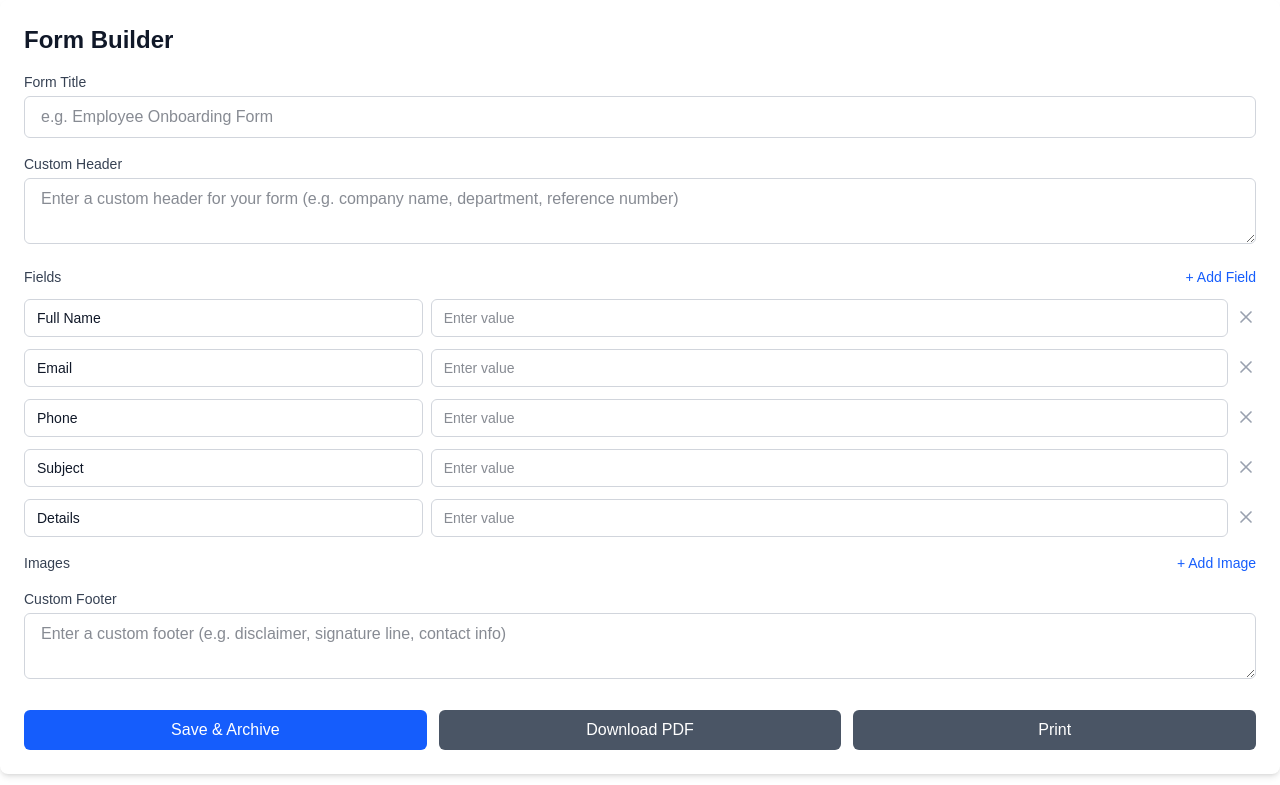
Test: FormBuilder › shows error when localStorage throws
In the field with placeholder "e.g. Employee Onboarding Form": (640, 117) [24,96,1256,138], type "Err Form"
In the 1st field with placeholder "Enter value": (829, 318) [431,299,1228,337], type "data"
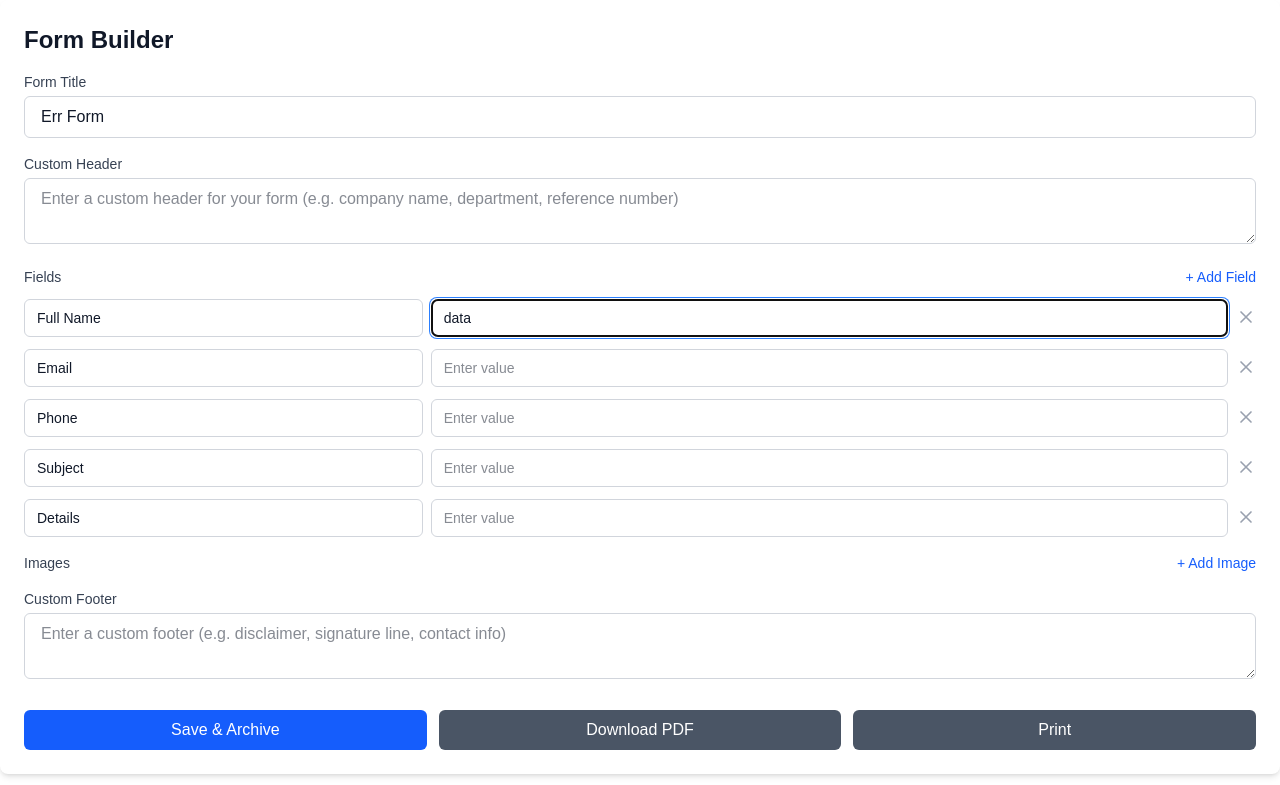
In the 1st field with placeholder "Enter value": (829, 368) [431,349,1228,387], type "data"
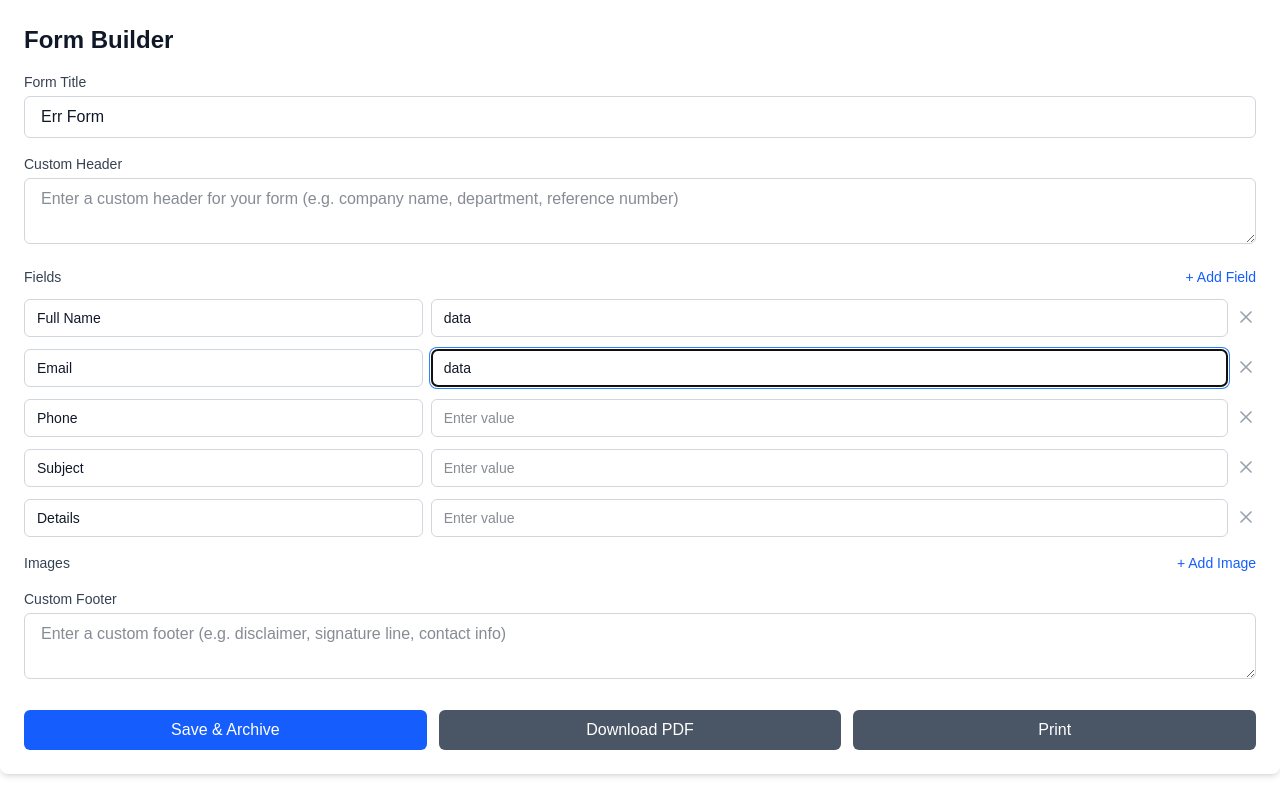
In the 1st field with placeholder "Enter value": (829, 418) [431,399,1228,437], type "data"
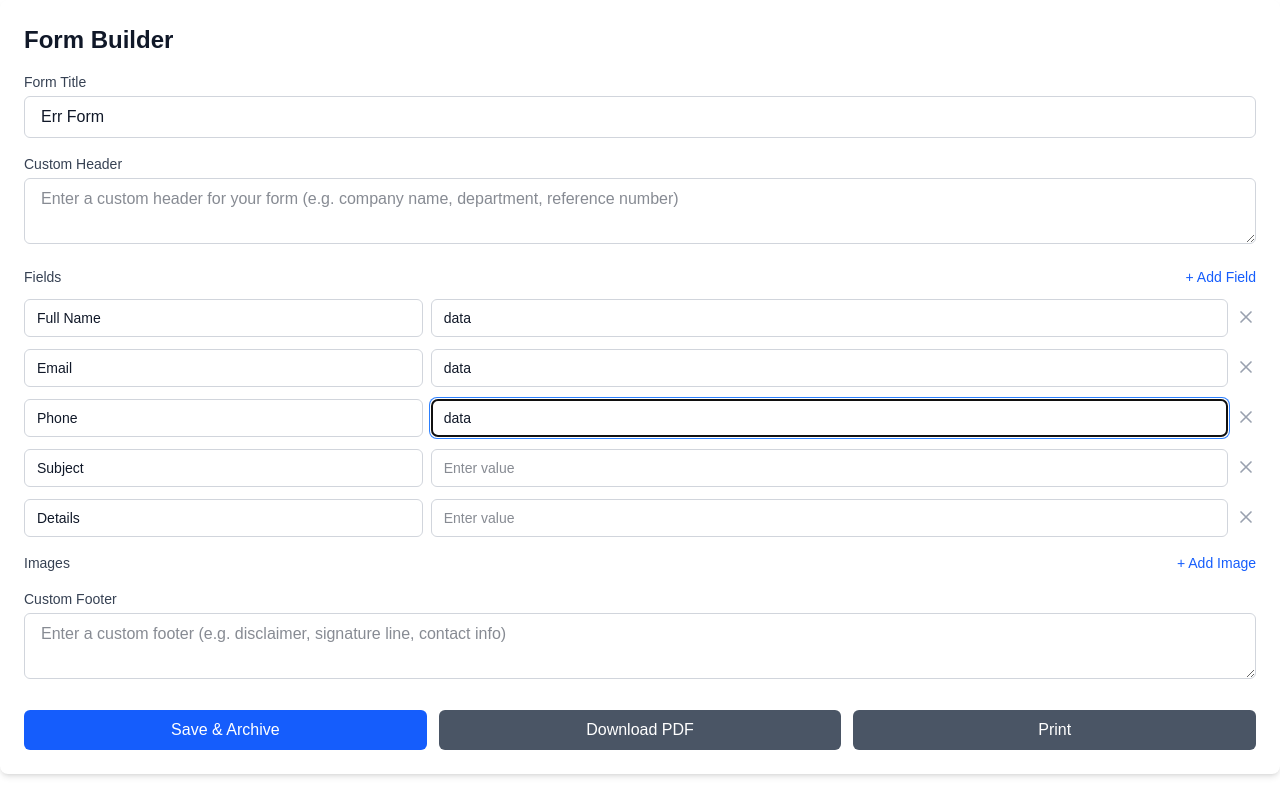
In the 1st field with placeholder "Enter value": (829, 468) [431,449,1228,487], type "data"
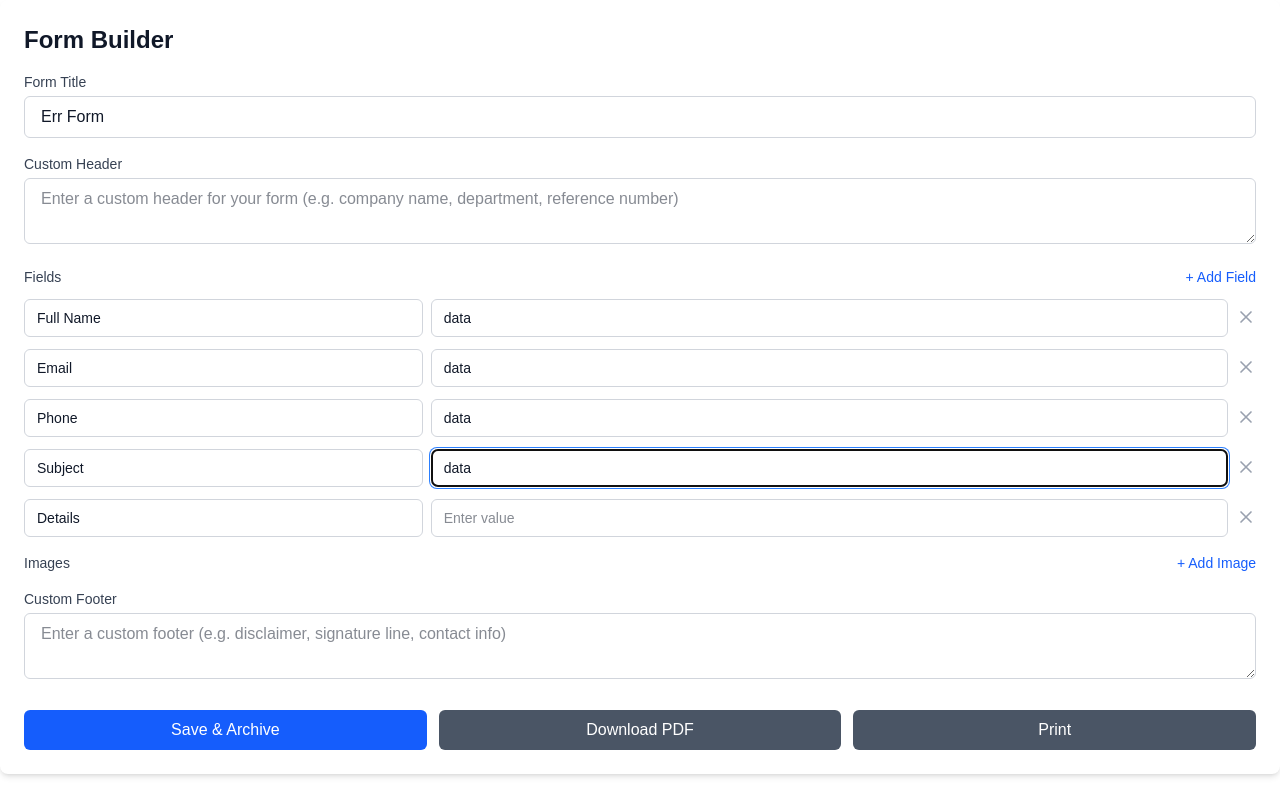
In the field with placeholder "Enter value": (829, 518) [431,499,1228,537], type "data"
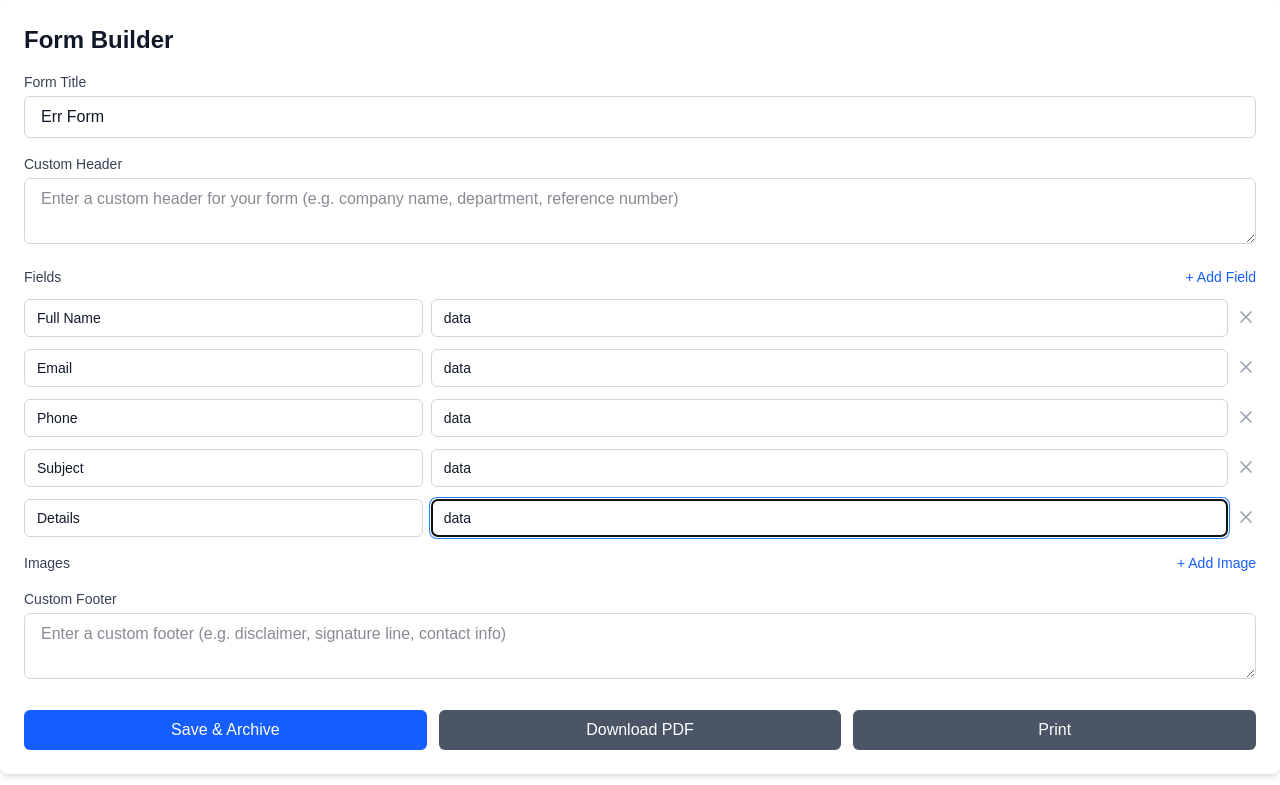
Click the button "Save & Archive": (225, 730) [24,710,427,750]
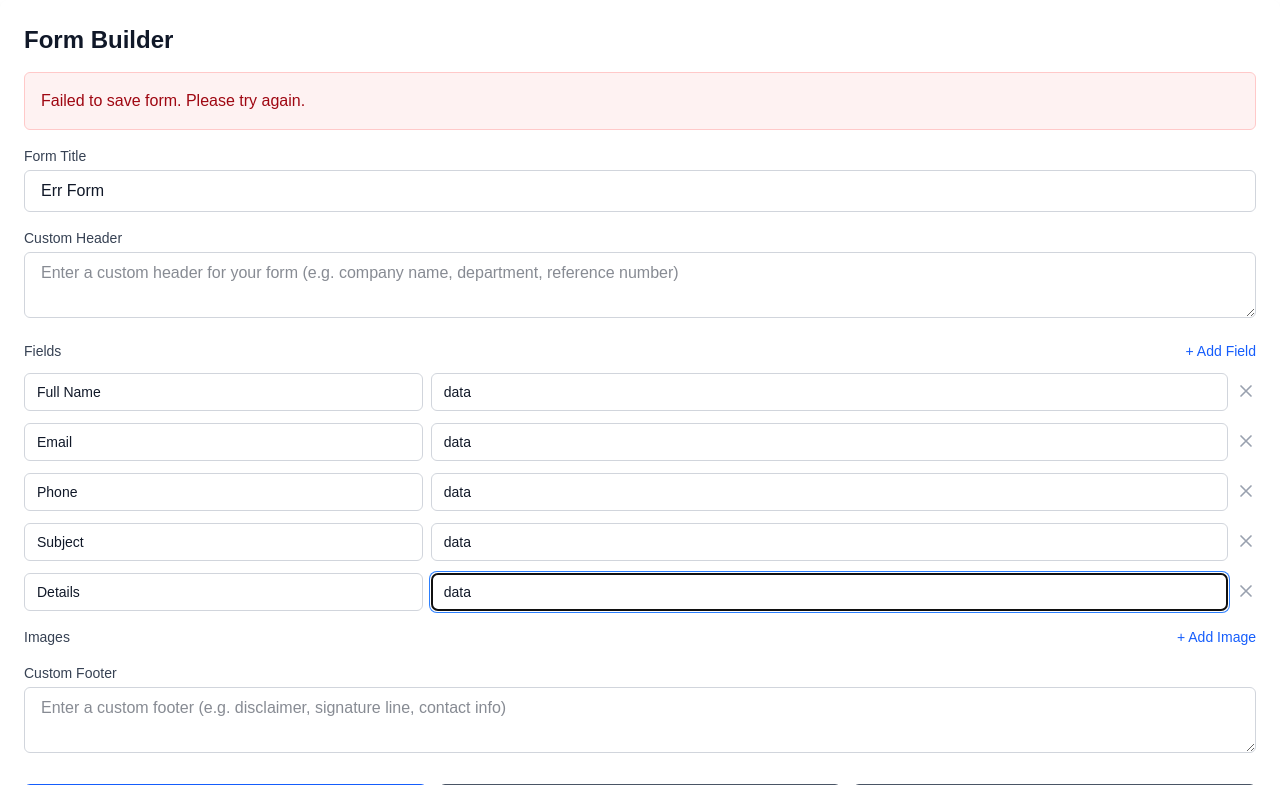
expect the text "Failed to save form. Please try again." is shown: met, box [24,72,1256,130]
